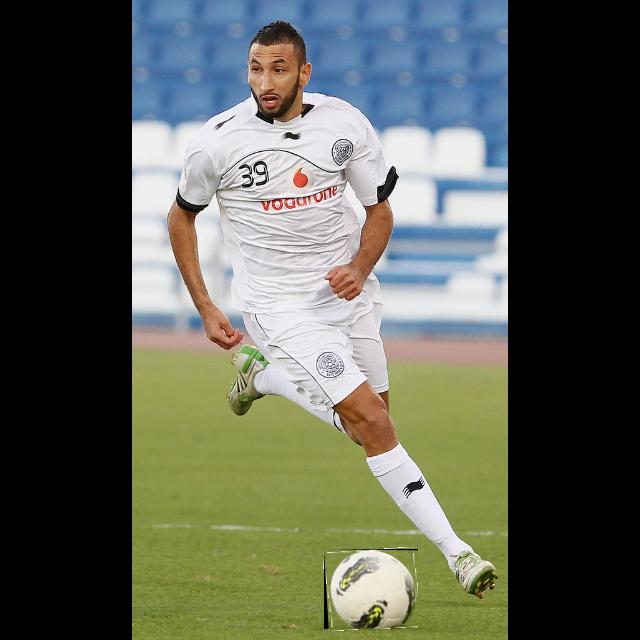Football: (324, 549, 418, 629)
